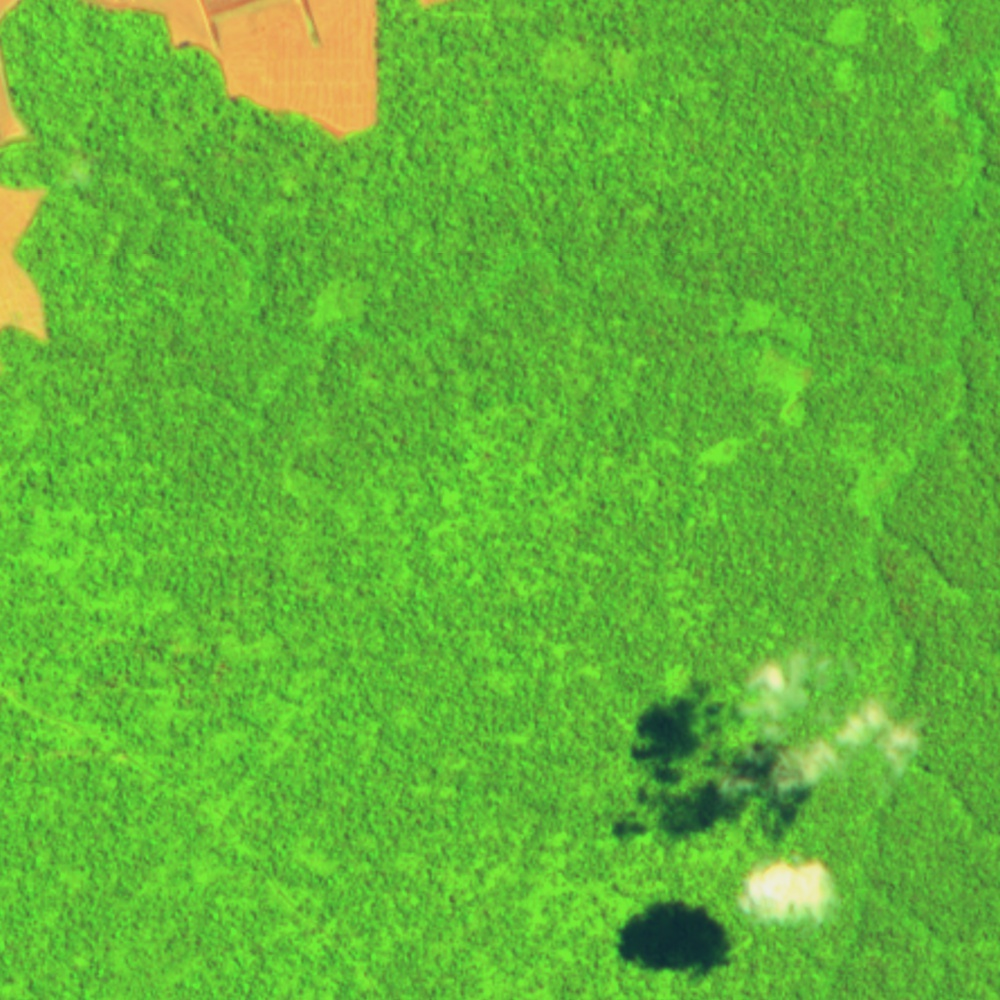legal: (78, 1, 381, 142), (1, 185, 54, 348), (1, 49, 41, 151), (1, 1, 23, 18)
